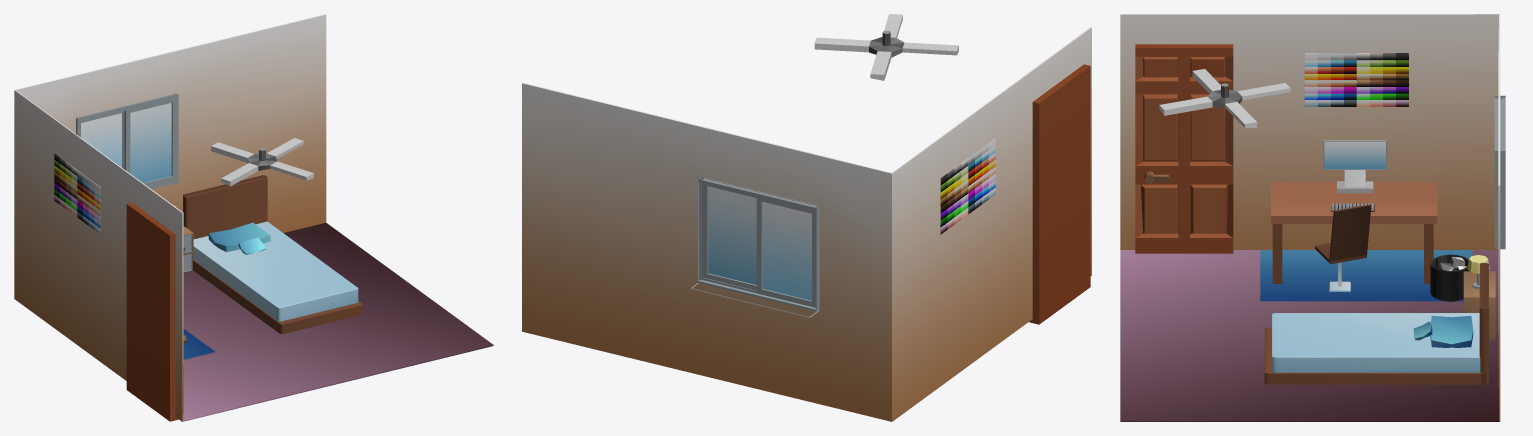
The model's file is Room_001.gltf.
3 renders of one model, left to right at view 1: azimuth 30°, elevation 25°; view 2: azimuth 150°, elevation 25°; view 3: azimuth 270°, elevation 25°, orthographic. The views are drawn at different scales.
Visible parts, largest first — view 1: room, Door, mattress, Bed, Window.R.001, Portrait, Fan, Window.L.001, WindowFrame, Pillow, FootMate; view 2: room, Door, Window.L.001, Window.R.001, Portrait, Fan, WindowFrame; view 3: room, Door, mattress, FootMate, tabel, Portrait, Bed, Chair, Fan, Monitor Screen, WindowFrame, Dustbin (+3 smaller).
Boxes of the visible parts, x1=… form: room: x1=14, y1=14, x2=493, y2=421; Door: x1=126, y1=202, x2=183, y2=421; mattress: x1=193, y1=221, x2=358, y2=321; Bed: x1=183, y1=175, x2=362, y2=334; Window.R.001: x1=124, y1=98, x2=174, y2=186; Portrait: x1=54, y1=153, x2=100, y2=234; Fan: x1=211, y1=138, x2=313, y2=186; Window.L.001: x1=80, y1=110, x2=124, y2=168; WindowFrame: x1=76, y1=93, x2=178, y2=189; Pillow: x1=208, y1=222, x2=270, y2=252; FootMate: x1=183, y1=329, x2=215, y2=359; room: x1=522, y1=27, x2=1091, y2=421; Door: x1=1029, y1=64, x2=1090, y2=324; Window.L.001: x1=756, y1=196, x2=815, y2=307; Window.R.001: x1=703, y1=183, x2=756, y2=290; Portrait: x1=940, y1=138, x2=995, y2=234; Fan: x1=814, y1=14, x2=958, y2=80; WindowFrame: x1=698, y1=177, x2=819, y2=311; room: x1=1120, y1=14, x2=1500, y2=421; Door: x1=1135, y1=44, x2=1233, y2=253; mattress: x1=1272, y1=313, x2=1480, y2=372; FootMate: x1=1260, y1=250, x2=1472, y2=301; tabel: x1=1271, y1=182, x2=1437, y2=283; Portrait: x1=1304, y1=53, x2=1408, y2=106; Bed: x1=1264, y1=263, x2=1488, y2=384; Chair: x1=1315, y1=204, x2=1371, y2=291; Fan: x1=1159, y1=69, x2=1290, y2=128; Monitor Screen: x1=1324, y1=141, x2=1385, y2=169; WindowFrame: x1=1494, y1=95, x2=1505, y2=249; Dustbin: x1=1430, y1=254, x2=1468, y2=301.
Bounding box in the file's own units: 3.81 × 2.46 × 3.67.
Materials: 1 (1 with a texture image).
